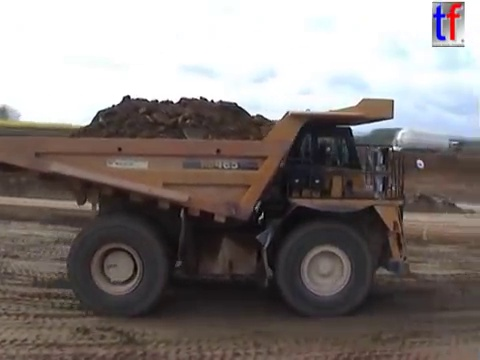truck: (1, 93, 414, 322)
